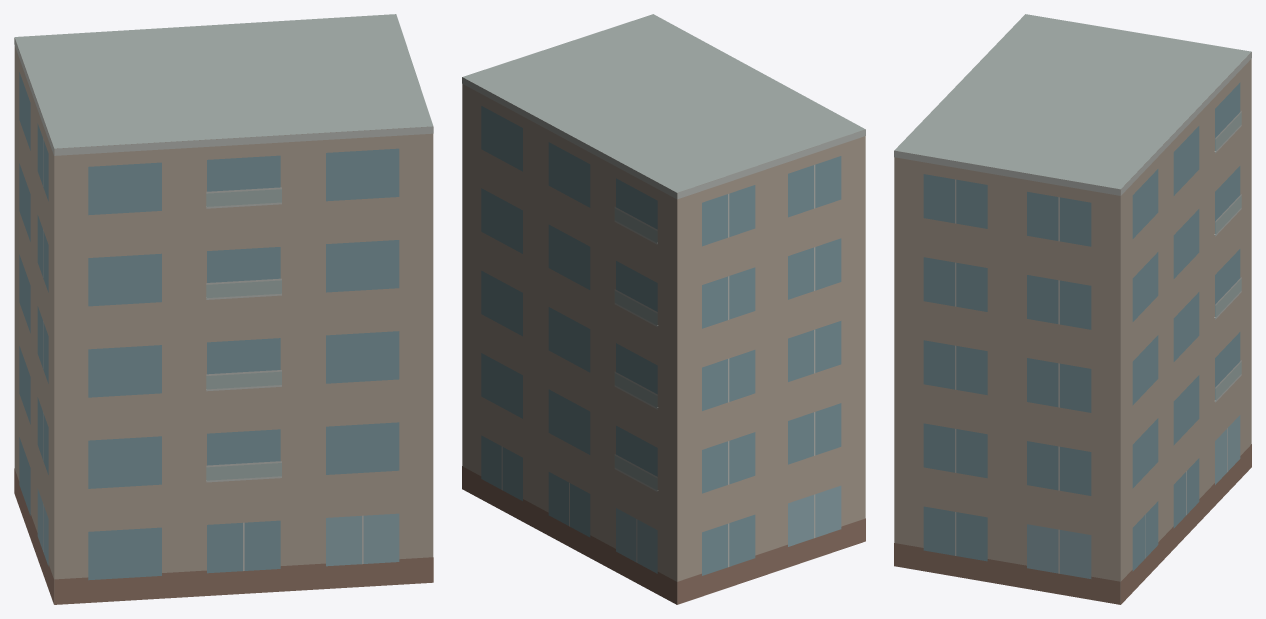
Rendered from survey-upis-32728413.glb.
3 views of the same model, side by side, from view 1: azimuth 30°, elevation 25°; view 2: azimuth 150°, elevation 25°; view 3: azimuth 270°, elevation 25° (orthographic). The views are drawn at different scales.
Parts seen in each view (by area): view 1: survey-upis-32728413.tmp; view 2: survey-upis-32728413.tmp; view 3: survey-upis-32728413.tmp.
Part boxes in pixels (x1,y1,x2,y2): survey-upis-32728413.tmp: (14, 14, 433, 604); survey-upis-32728413.tmp: (462, 14, 865, 604); survey-upis-32728413.tmp: (894, 14, 1251, 604).
Bounding box in the file's own units: 13.81 × 15.25 × 11.9.
